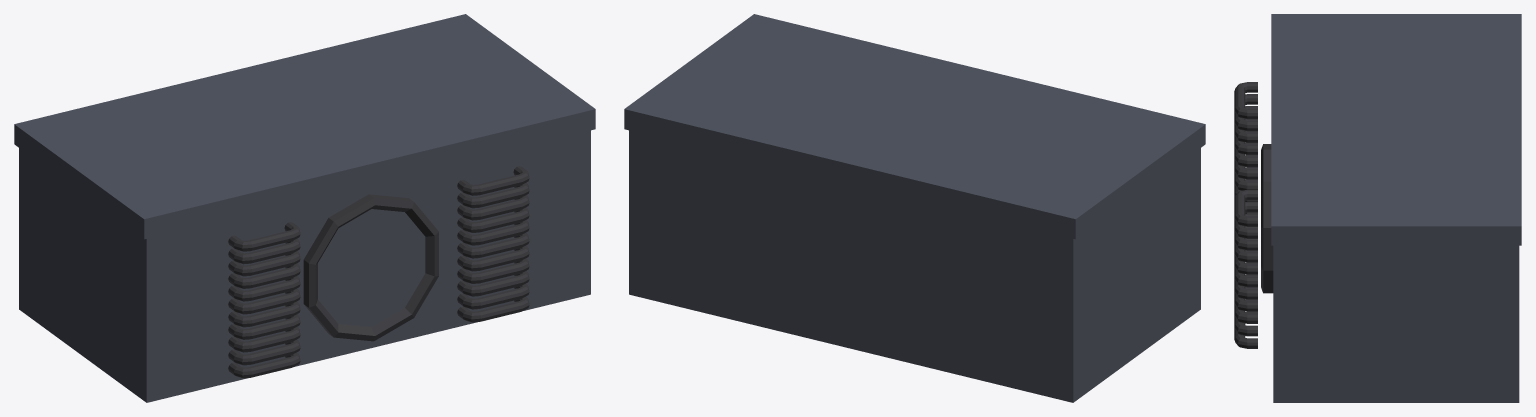
File: HouseBlock6.fbx
The picture shows the model from 3 angles, left to right: view 1: azimuth 30°, elevation 25°; view 2: azimuth 150°, elevation 25°; view 3: azimuth 270°, elevation 25°; orthographic projection. The views are drawn at different scales.
Visible parts, largest first — view 1: RoofCabin1; view 2: RoofCabin1; view 3: RoofCabin1.
Boxes of the visible parts, bbox=[...] form: RoofCabin1: bbox=[14, 14, 595, 402]; RoofCabin1: bbox=[624, 14, 1205, 402]; RoofCabin1: bbox=[1234, 14, 1521, 402].
Bounding box in the file's own units: 4057 × 1591 × 2319.
